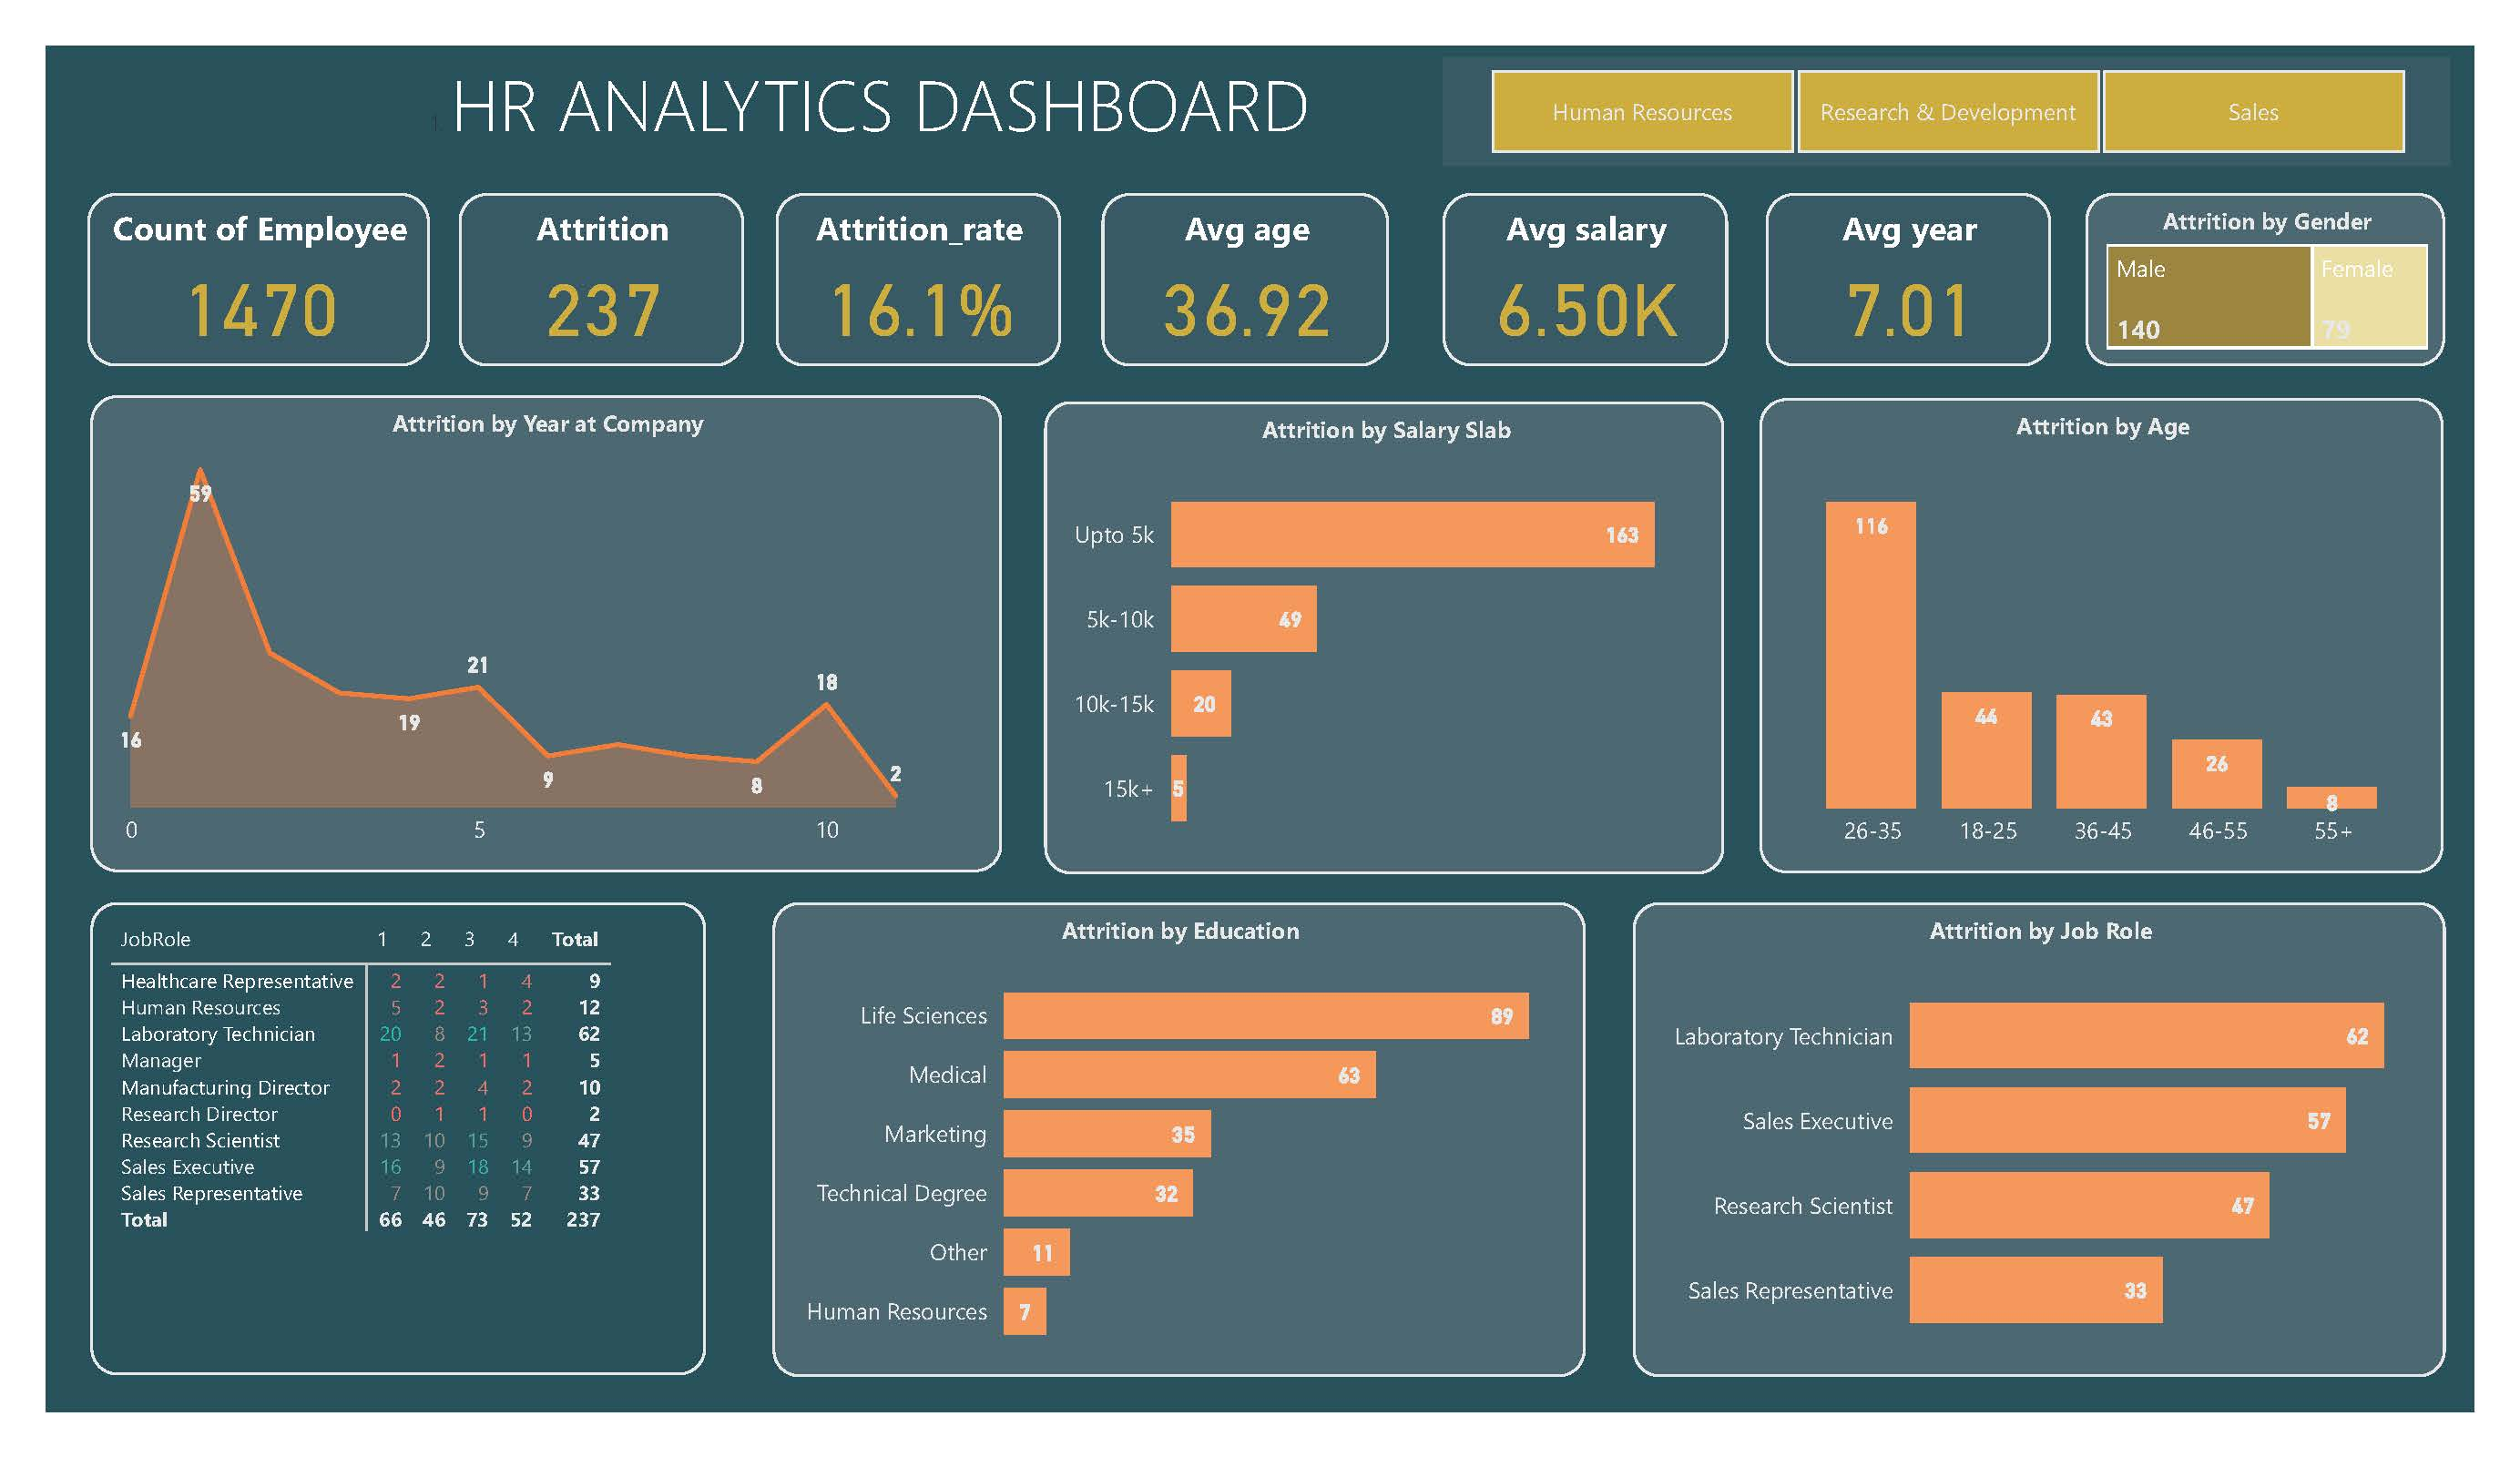

What the dashboard file says about the page in this screenshot:
{"tool":"powerbi","page":{"name":"Page 1","canvas":[1280,720],"ordinal":0},"visuals":[{"type":"card","title":"Count of Employee","fields":{"Values":["CountNonNull(HR_Analytics.EmpID)"]},"box":[22.7,64.2,150,75],"z":0},{"type":"card","title":"Attrition","fields":{"Values":["Sum(HR_Analytics.Attrition_count)"]},"box":[202.2,64.3,150,75],"z":1000},{"type":"card","title":"Attrition_rate","fields":{"Values":["HR_Analytics.Attrition_rate"]},"box":[381.7,64.3,150,75],"z":2000},{"type":"card","title":"Avg age","fields":{"Values":["Avg(HR_Analytics.Age)"]},"box":[557.5,64.3,150,75],"z":3000},{"type":"card","title":"Avg  salary","fields":{"Values":["Avg(HR_Analytics.MonthlyIncome)"]},"box":[733.2,64.3,150,75],"z":4000},{"type":"card","title":"Avg year","fields":{"Values":["Avg(HR_Analytics.YearsAtCompany)"]},"box":[905.2,64.3,150,75],"z":5000},{"type":"donutChart","title":"Attrition by Education","fields":{"Category":["HR_Analytics.EducationField"],"Y":["Sum(HR_Analytics.Attrition_count)"]},"box":[22.7,147.4,389.3,272.1],"z":6000},{"type":"columnChart","title":"Attrition by Age","fields":{"Category":["HR_Analytics.AgeGroup"],"Y":["Sum(HR_Analytics.Attrition_count)"]},"box":[427.1,147.4,389.3,272.1],"z":7000},{"type":"pivotTable","fields":{"Rows":["HR_Analytics.JobRole"],"Columns":["HR_Analytics.JobSatisfaction"],"Values":["Sum(HR_Analytics.Attrition_count)"]},"box":[833.4,147.4,425.2,272.1],"z":8000},{"type":"barChart","title":"Attrition by Salary Slab","fields":{"Category":["HR_Analytics.SalarySlab"],"Y":["Sum(HR_Analytics.Attrition_count)"]},"box":[22.7,434.6,389.3,272.1],"z":9000},{"type":"barChart","title":"Attrition by Job Role","fields":{"Y":["Sum(HR_Analytics.Attrition_count)"],"Category":["HR_Analytics.JobRole"]},"box":[833.4,434.6,425.2,272.1],"z":10000},{"type":"areaChart","title":"Attrition by Year at Company","fields":{"Category":["HR_Analytics.YearsAtCompany"],"Y":["Sum(HR_Analytics.Attrition_count)"]},"box":[427.1,434.6,389.3,272.1],"z":11000},{"type":"treemap","title":"Attrition by Gender","fields":{"Group":["HR_Analytics.Gender"],"Values":["Sum(HR_Analytics.Attrition_count)"]},"box":[1069.6,17,189,119.1],"z":12000},{"type":"slicer","fields":{"Values":["HR_Analytics.Department"]},"box":[570.7,3.8,429,56.7],"z":13000},{"type":"textbox","box":[22.7,0,449.8,62.4],"z":14000}]}

Visuals, with their boxes in screenshot pixels (x1, y1, x2, y2):
"Count of Employee" card: <region>88, 168, 373, 310</region>
"Attrition" card: <region>429, 168, 714, 310</region>
"Attrition_rate" card: <region>770, 168, 1055, 310</region>
"Avg age" card: <region>1104, 168, 1388, 310</region>
"Avg  salary" card: <region>1437, 168, 1721, 310</region>
"Avg year" card: <region>1763, 168, 2048, 310</region>
"Attrition by Education" donutChart: <region>88, 325, 827, 841</region>
"Attrition by Age" columnChart: <region>856, 325, 1595, 841</region>
pivotTable - HR_Analytics.JobRole x HR_Analytics.JobSatisfaction: <region>1627, 325, 2433, 841</region>
"Attrition by Salary Slab" barChart: <region>88, 870, 827, 1386</region>
"Attrition by Job Role" barChart: <region>1627, 870, 2433, 1386</region>
"Attrition by Year at Company" areaChart: <region>856, 870, 1595, 1386</region>
"Attrition by Gender" treemap: <region>2076, 77, 2433, 304</region>
slicer - HR_Analytics.Department: <region>1128, 53, 1943, 160</region>
textbox: <region>88, 46, 942, 164</region>
